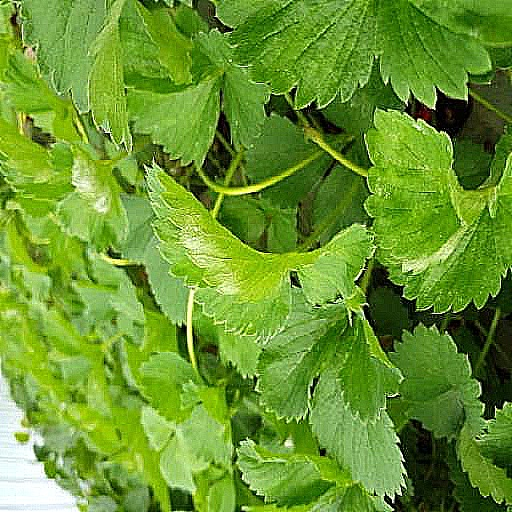Powdery Mildew Leaf: (134, 168, 371, 354), (0, 198, 149, 406), (382, 265, 464, 372)
